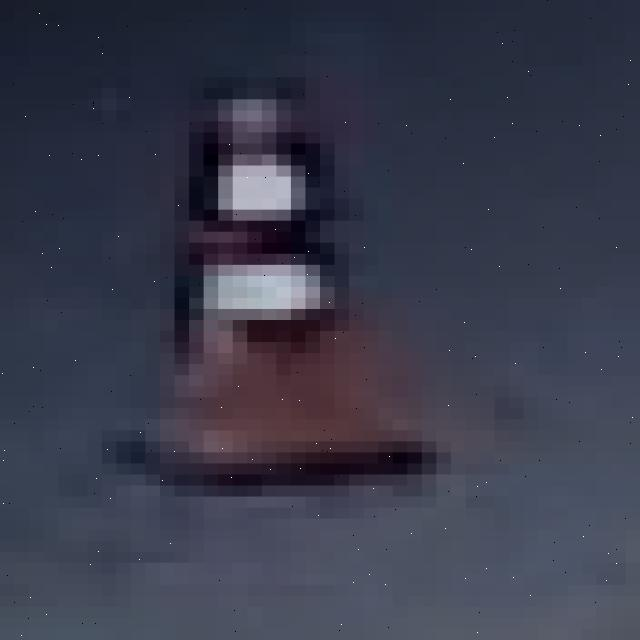small_cone: (160, 77, 422, 486)
